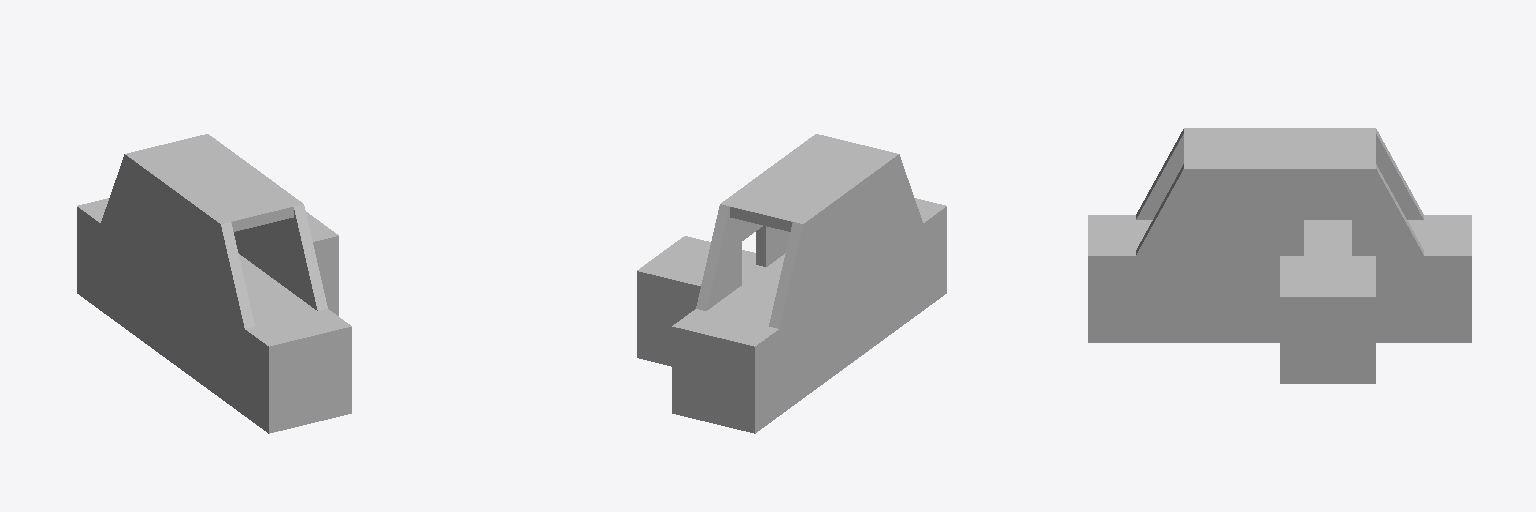
The model's file is sawmill.obj.
The picture shows the model from 3 angles: view 1: azimuth 30°, elevation 25°; view 2: azimuth 150°, elevation 25°; view 3: azimuth 270°, elevation 25°; orthographic projection.
Parts seen in each view (by area): view 1: sawmill_Cube; view 2: sawmill_Cube; view 3: sawmill_Cube.
Boxes of the visible parts, x1,y1,x2,y2 form: sawmill_Cube: [77, 134, 351, 433]; sawmill_Cube: [637, 134, 946, 433]; sawmill_Cube: [1088, 128, 1471, 383].
Size of the model in its own units: 2 by 2 by 4.